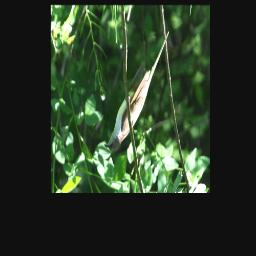Cuckoo: (104, 29, 170, 153)
